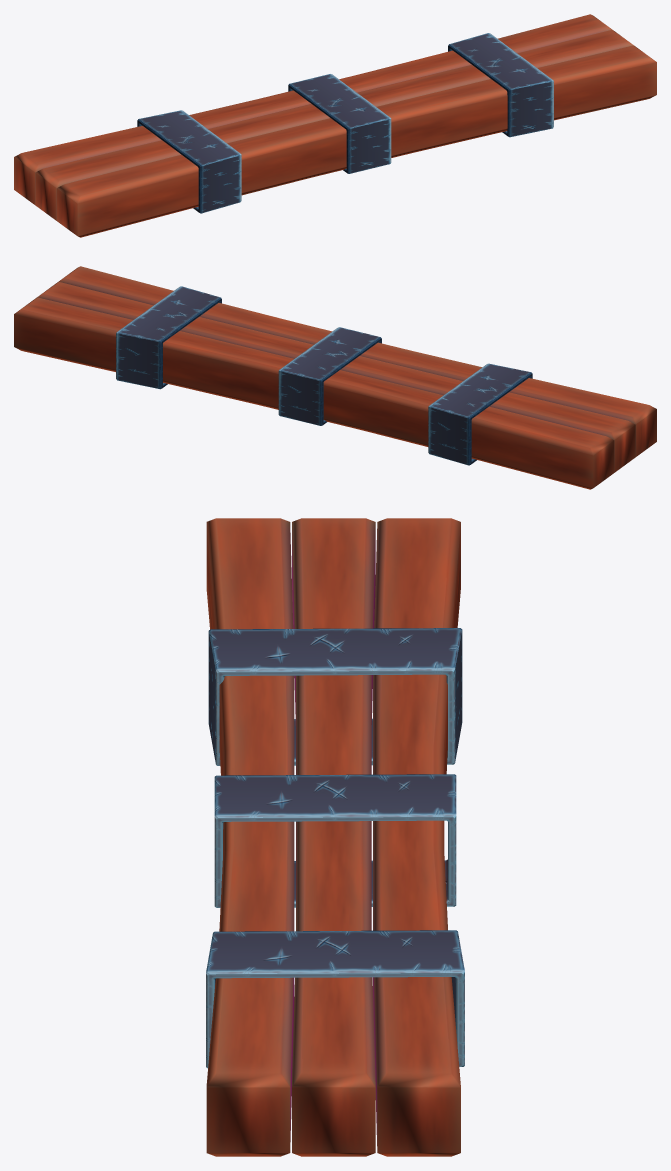
Rendered from barrel_columne_plank_2.fbx.
3 views of the same model, one above another, from view 1: azimuth 30°, elevation 25°; view 2: azimuth 150°, elevation 25°; view 3: azimuth 270°, elevation 25° (orthographic). The views are drawn at different scales.
Visible parts, largest first — view 1: l_leg.018, Cube.006, Cube.003, Cube.007; view 2: l_leg.018, Cube.006, Cube.003, Cube.007; view 3: l_leg.018, Cube.003, Cube.006, Cube.007.
Boxes of the visible parts, box(x1,y1,x2,y2) form: l_leg.018: box(14, 14, 656, 237); Cube.006: box(448, 33, 553, 137); Cube.003: box(137, 110, 241, 213); Cube.007: box(288, 74, 391, 173); l_leg.018: box(14, 266, 656, 489); Cube.006: box(116, 286, 221, 389); Cube.003: box(428, 363, 532, 465); Cube.007: box(278, 327, 381, 425); l_leg.018: box(206, 518, 460, 1156); Cube.003: box(208, 628, 462, 765); Cube.006: box(206, 930, 464, 1068); Cube.007: box(214, 774, 456, 907).
Bounding box in the file's own units: 1669 × 135 × 323.
